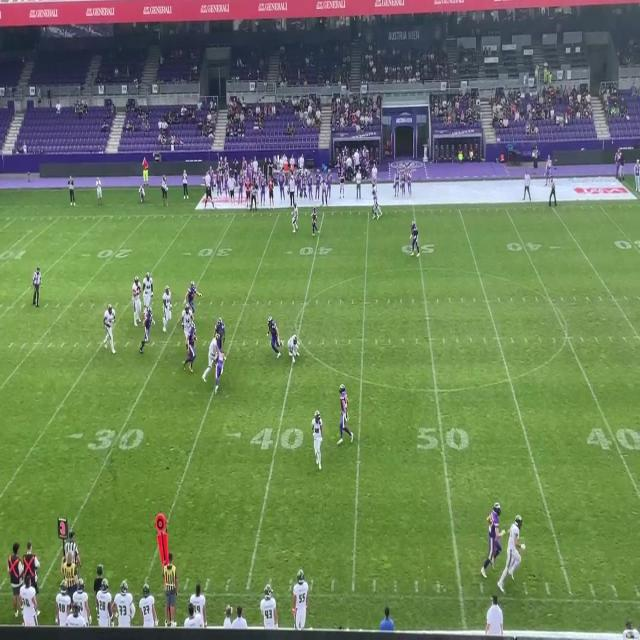3: (89, 426, 115, 456)
4: (583, 423, 614, 459), (248, 424, 275, 456)
5: (414, 422, 440, 456)
american-football-players: (497, 516, 525, 592), (481, 503, 506, 575), (336, 384, 355, 446), (310, 409, 325, 473), (266, 313, 286, 359), (185, 314, 198, 374), (103, 302, 118, 354), (140, 307, 155, 357), (204, 333, 218, 382), (183, 281, 201, 319), (214, 350, 228, 395), (180, 300, 193, 343), (370, 188, 386, 220), (162, 287, 172, 335), (132, 274, 141, 327), (143, 272, 153, 315), (288, 334, 302, 363), (410, 219, 420, 259), (215, 317, 227, 348), (311, 207, 321, 238), (292, 202, 300, 235)
